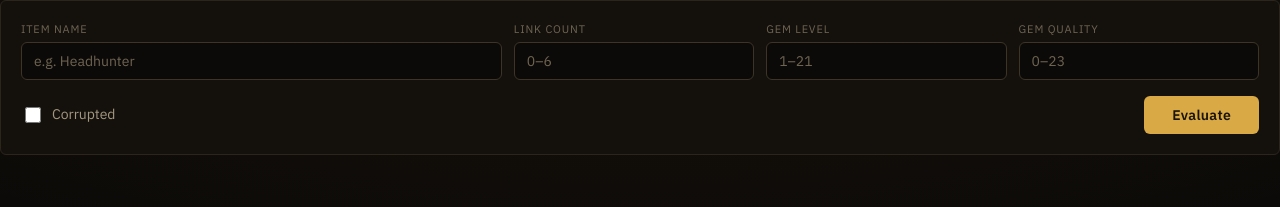
it: InventoryEvaluator › shows a validation error when the item name is empty
Click the button "Evaluate" at (1202, 114), box top-left (1144, 96), bottom-right (1259, 134)
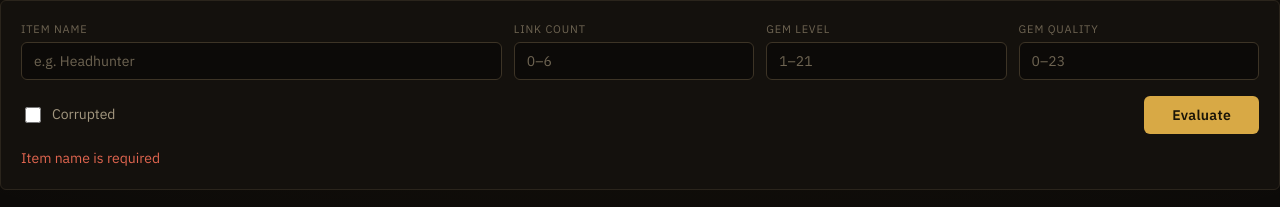
Expected: the message reads "Item name is required", top-left (21, 148), bottom-right (160, 166)
